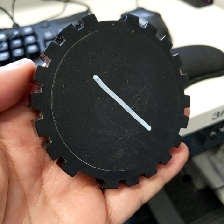gear: (26, 12, 192, 191)
missing: (58, 155, 120, 190), (77, 13, 141, 29)
